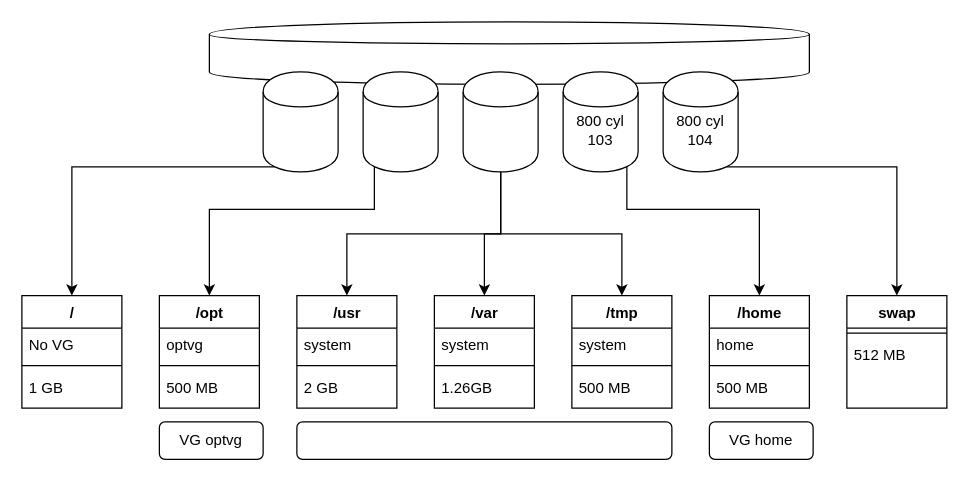
The diagram is 969 pixels wide and 481 high, and some of its shapes have lost their labels. The shapes that lost their labels are listed below. From the top down, each one's centre as x and y in pixels, then its label:
At [508,52]: "Disk 3390-09".
At [300,121]: "1600 cyl 100".
At [400,121]: "800 cyl 101".
At [500,121]: "6016 cyl 102".
At [484,440]: "VG system".
